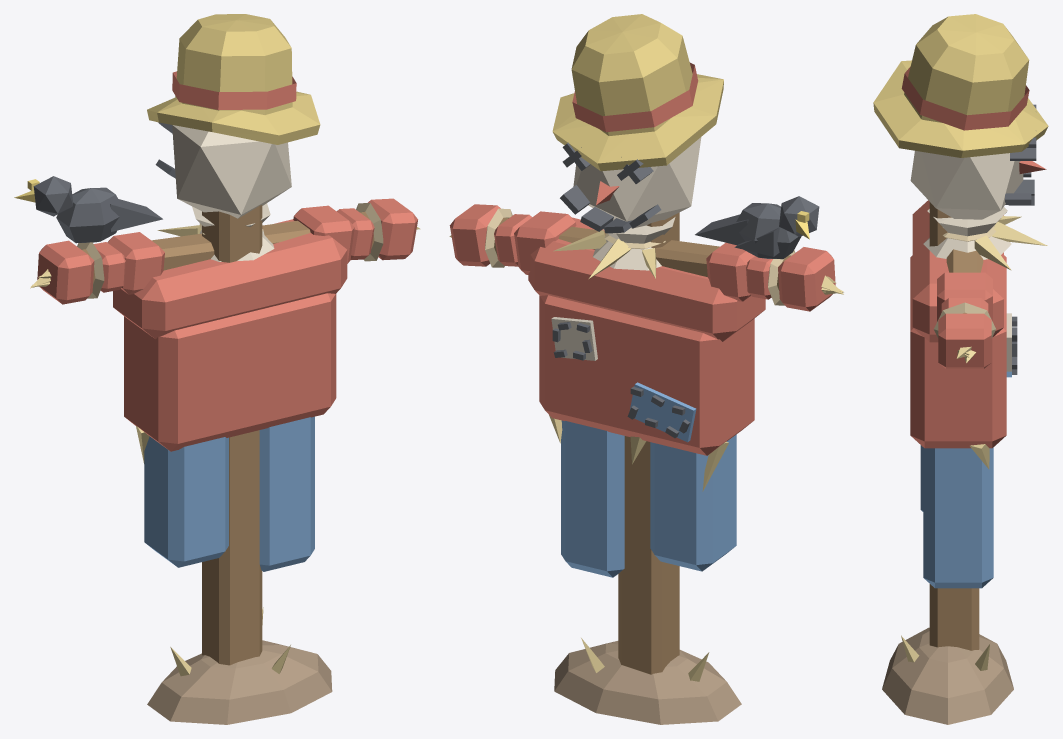
File: Scarecrow.fbx
3 renders of one model, left to right at view 1: azimuth 30°, elevation 25°; view 2: azimuth 150°, elevation 25°; view 3: azimuth 270°, elevation 25°, orthographic. The views are drawn at different scales.
Visible parts, largest first — view 1: Scarecrow.RedCloth, Scarecrow.Denim, Scarecrow.Frame, Scarecrow.StrawHat, Scarecrow.DirtMound, Scarecrow.Burlap, Scarecrow.Crow, Scarecrow.Lashing, Scarecrow.StrawTufts; view 2: Scarecrow.RedCloth, Scarecrow.Denim, Scarecrow.StrawHat, Scarecrow.Frame, Scarecrow.DirtMound, Scarecrow.Burlap, Scarecrow.Crow, Scarecrow.Stitching, Scarecrow.StrawTufts, Scarecrow.Lashing; view 3: Scarecrow.RedCloth, Scarecrow.StrawHat, Scarecrow.Denim, Scarecrow.DirtMound, Scarecrow.Burlap, Scarecrow.Frame, Scarecrow.StrawTufts, Scarecrow.Stitching, Scarecrow.Lashing.
Boxes of the visible parts, bbox=[...] form: Scarecrow.RedCloth: bbox=[37, 71, 417, 451]; Scarecrow.Denim: bbox=[144, 416, 314, 571]; Scarecrow.Frame: bbox=[82, 205, 374, 665]; Scarecrow.StrawHat: bbox=[147, 14, 320, 144]; Scarecrow.DirtMound: bbox=[147, 640, 332, 724]; Scarecrow.Burlap: bbox=[172, 125, 291, 261]; Scarecrow.Crow: bbox=[33, 176, 162, 243]; Scarecrow.Lashing: bbox=[77, 203, 383, 298]; Scarecrow.StrawTufts: bbox=[30, 225, 420, 676]; Scarecrow.RedCloth: bbox=[449, 62, 835, 455]; Scarecrow.Denim: bbox=[561, 382, 736, 577]; Scarecrow.StrawHat: bbox=[552, 14, 723, 171]; Scarecrow.Frame: bbox=[494, 212, 790, 674]; Scarecrow.DirtMound: bbox=[554, 641, 741, 724]; Scarecrow.Burlap: bbox=[551, 137, 701, 360]; Scarecrow.Crow: bbox=[695, 196, 819, 259]; Scarecrow.Stitching: bbox=[552, 142, 690, 438]; Scarecrow.StrawTufts: bbox=[449, 230, 844, 681]; Scarecrow.Lashing: bbox=[485, 208, 795, 305]; Scarecrow.RedCloth: bbox=[901, 66, 1046, 448]; Scarecrow.StrawHat: bbox=[873, 14, 1048, 157]; Scarecrow.Denim: bbox=[920, 371, 1011, 588]; Scarecrow.DirtMound: bbox=[882, 627, 1013, 724]; Scarecrow.Burlap: bbox=[910, 151, 1023, 371]; Scarecrow.Frame: bbox=[929, 202, 983, 650]; Scarecrow.StrawTufts: bbox=[901, 216, 1047, 670]; Scarecrow.Stitching: bbox=[1005, 104, 1036, 374]; Scarecrow.Lashing: bbox=[933, 225, 996, 338].
Size of the model in its own units: 3.41 by 5.57 by 1.34.
